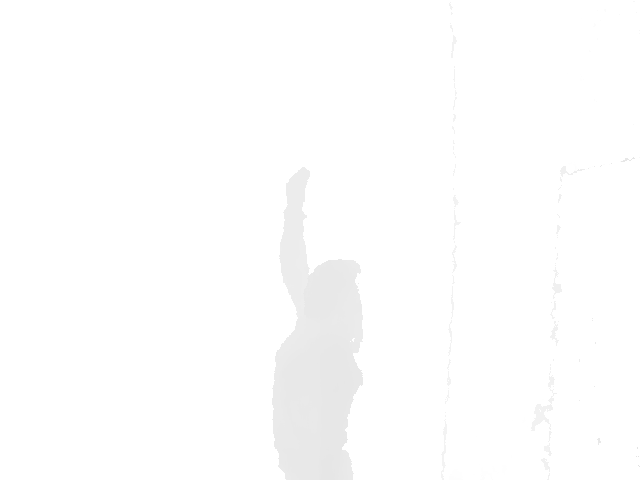hand: (282, 168, 312, 206)
head: (302, 257, 365, 336)
person: (271, 167, 365, 479)
